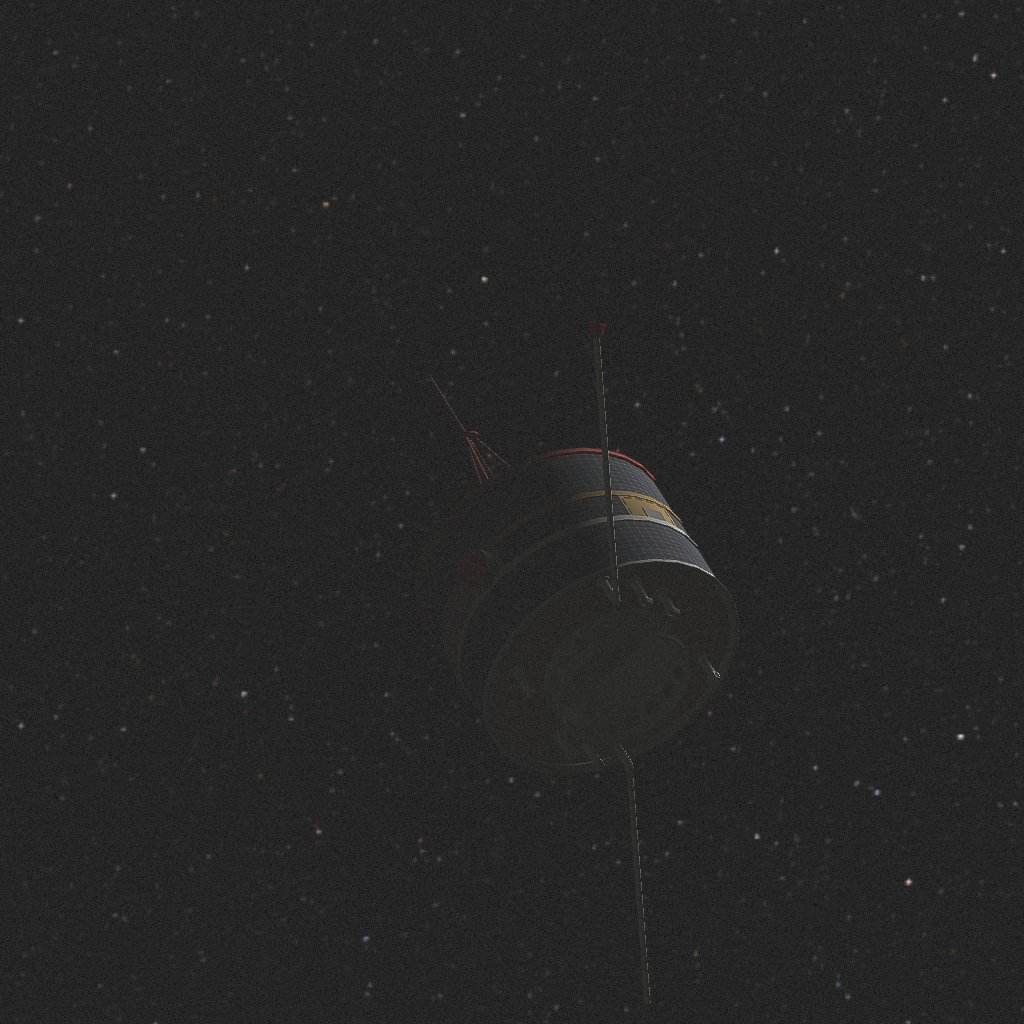double_star: (415, 321, 739, 1005)
